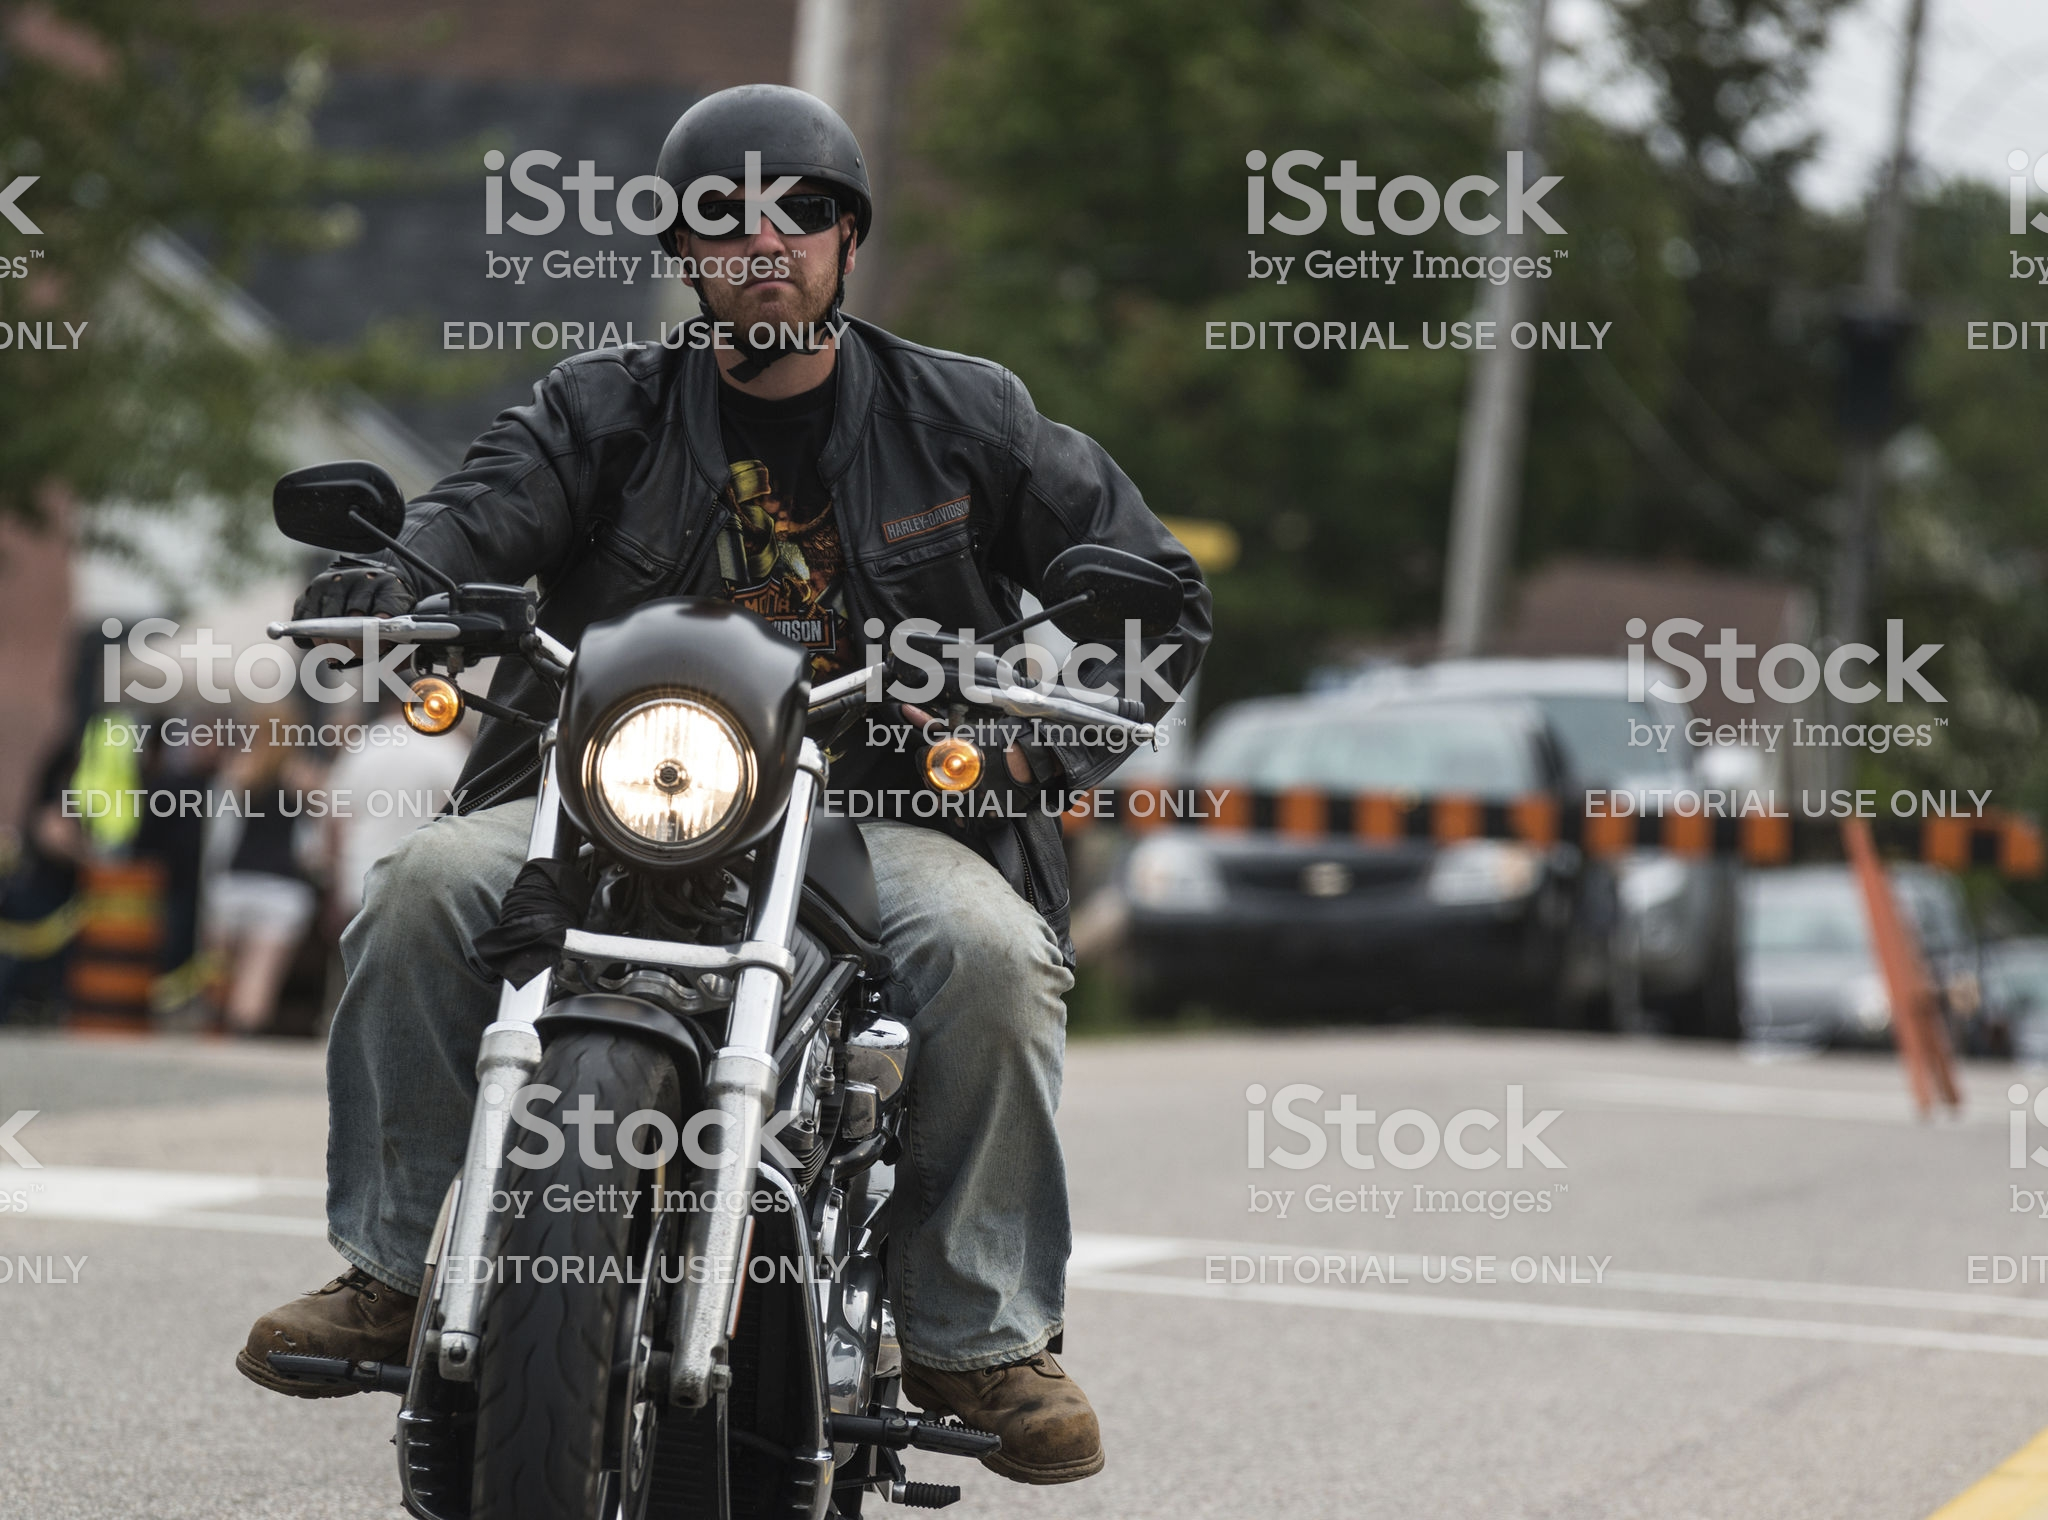helmet: (631, 86, 889, 224)
